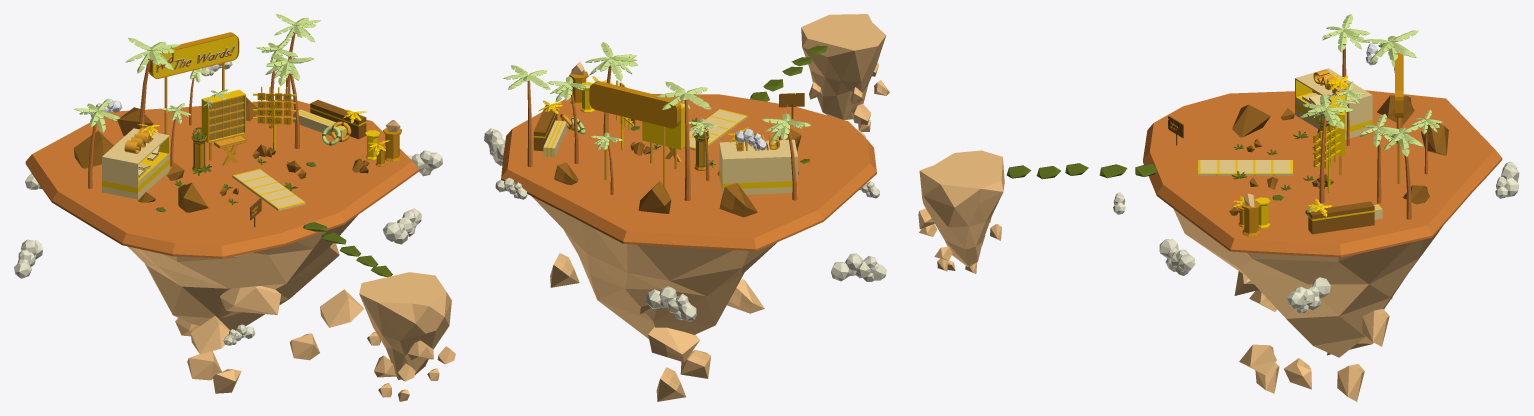
The model's file is 01_wordle.fbx.
3 renders of one model, left to right at view 1: azimuth 30°, elevation 25°; view 2: azimuth 150°, elevation 25°; view 3: azimuth 270°, elevation 25°, orthographic. The views are drawn at different scales.
Visible parts, largest first — view 1: Icosphere, Icosphere.001, Sphere.008, Cube.001, Cube, Sphere.011, Sphere.001, Plane.018, Plane, Cube.004, Sphere.032, Cylinder.001 (+12 smaller); view 2: Icosphere, Icosphere.001, Sphere.008, Cube.001, Cube, Sphere.001, Sphere.017, Sphere.031, Sphere.011, Plane, Plane.018, Cylinder.013 (+13 smaller); view 3: Icosphere, Icosphere.001, Sphere.008, Cube.001, Cube.004, Sphere.001, Plane.018, Sphere.011, Sphere, Sphere.032, Sphere.003, Cylinder.001 (+5 smaller).
Part boxes in pixels (<box>): Icosphere: <box>25,99,419,330</box>; Icosphere.001: <box>359,272,451,379</box>; Sphere.008: <box>175,286,364,393</box>; Cube.001: <box>102,128,169,199</box>; Cube: <box>149,32,239,78</box>; Sphere.011: <box>367,332,455,401</box>; Sphere.001: <box>73,97,257,168</box>; Plane.018: <box>232,168,305,210</box>; Plane: <box>201,89,245,143</box>; Cube.004: <box>310,100,366,139</box>; Sphere.032: <box>382,208,421,244</box>; Cylinder.001: <box>125,37,179,73</box>; Icosphere: <box>501,94,876,338</box>; Icosphere.001: <box>801,14,886,119</box>; Sphere.008: <box>550,253,764,401</box>; Cube.001: <box>719,139,797,194</box>; Cube: <box>589,81,681,128</box>; Sphere.001: <box>554,162,757,217</box>; Sphere.017: <box>831,253,886,281</box>; Sphere.031: <box>646,286,696,321</box>; Sphere.011: <box>809,63,889,137</box>; Plane: <box>642,103,685,149</box>; Plane.018: <box>684,109,747,150</box>; Cylinder.013: <box>585,42,638,80</box>; Icosphere: <box>1143,90,1502,357</box>; Icosphere.001: <box>919,150,1004,267</box>; Sphere.008: <box>1234,271,1392,401</box>; Cube.001: <box>1295,68,1372,139</box>; Cube.004: <box>1308,201,1374,234</box>; Sphere.001: <box>1377,95,1448,204</box>; Plane.018: <box>1198,160,1292,175</box>; Sphere.011: <box>918,208,1001,273</box>; Sphere: <box>1287,277,1330,313</box>; Sphere.032: <box>1159,239,1195,275</box>; Sphere.003: <box>1232,104,1270,137</box>; Cylinder.001: <box>1362,30,1418,67</box>.
Size of the model in its own units: 20.3 by 24.87 by 15.7.
